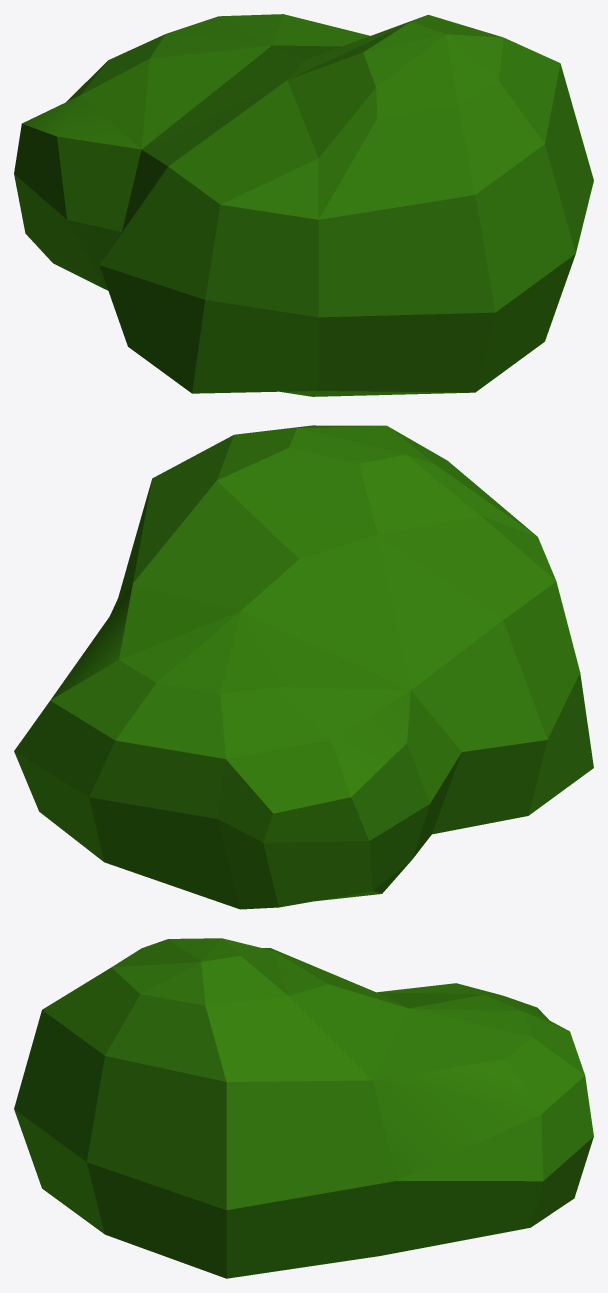
File: Bush_05.fbx
3 views of the same model, one above another, from view 1: azimuth 30°, elevation 25°; view 2: azimuth 150°, elevation 25°; view 3: azimuth 270°, elevation 25° (orthographic). The views are drawn at different scales.
Visible parts, largest first — view 1: Bush_Model_05; view 2: Bush_Model_05; view 3: Bush_Model_05.
Part boxes in pixels (x1,y1,x2,y2): Bush_Model_05: (14, 14, 593, 396); Bush_Model_05: (14, 425, 593, 909); Bush_Model_05: (14, 938, 593, 1278).
Bounding box in the file's own units: 13.2 × 8.63 × 16.02.
Materials: 1 (1 with a texture image).
